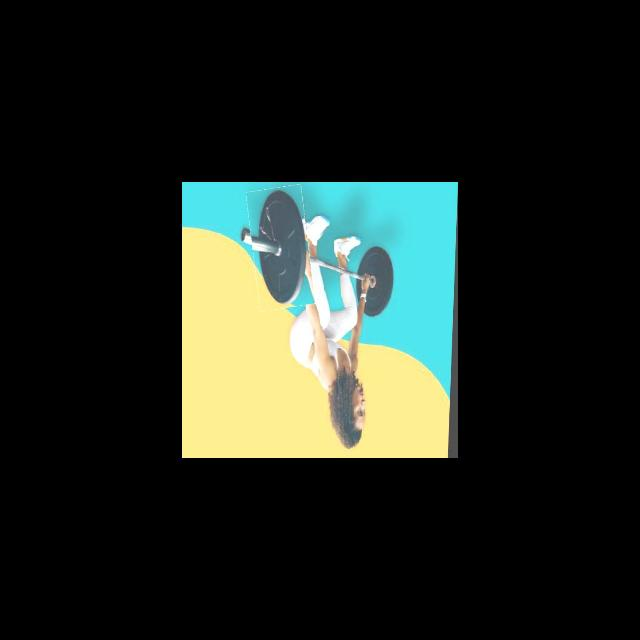barbell: (247, 186, 315, 310)
